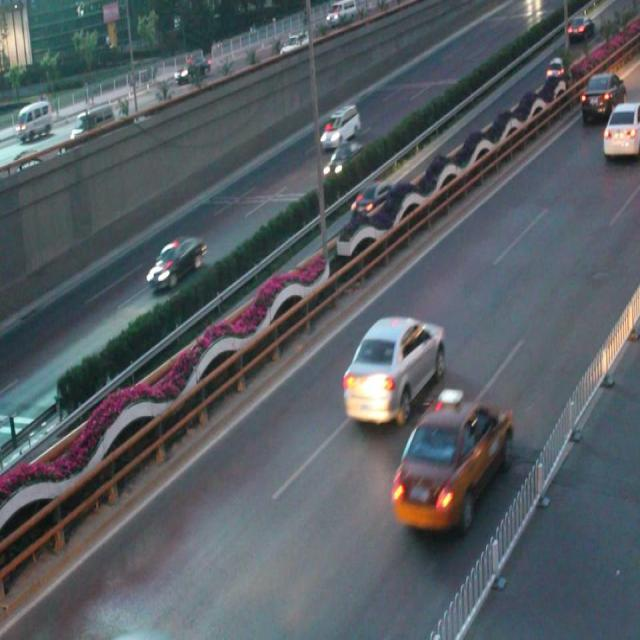car: (392, 392, 512, 534), (343, 317, 444, 427), (147, 236, 204, 291), (600, 105, 640, 155), (349, 179, 392, 220), (322, 140, 362, 180)
truck: (318, 105, 361, 151)
